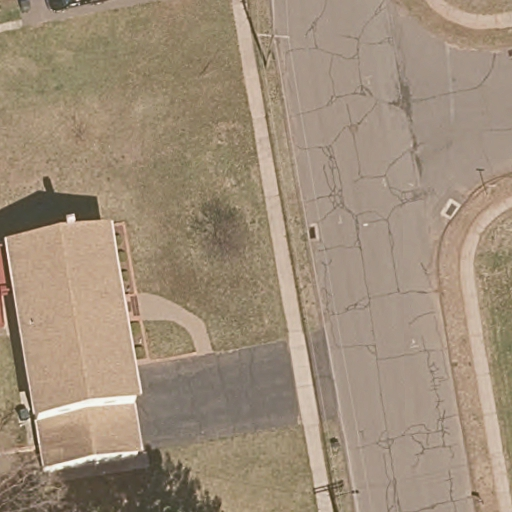DT: (256, 31, 289, 68)
